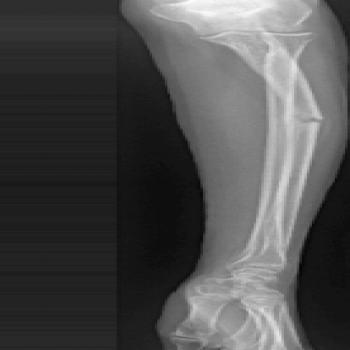Fracture: (282, 114, 334, 127)
